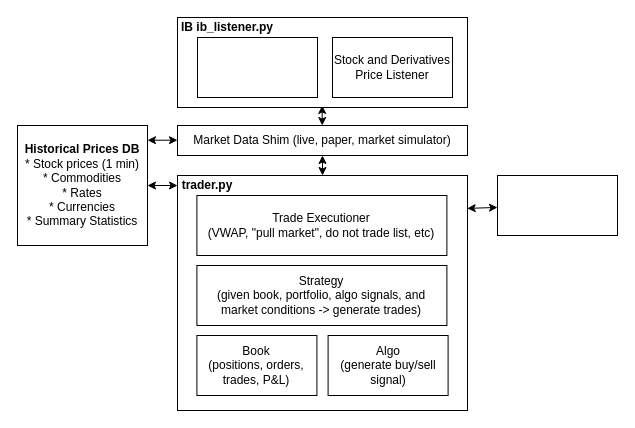
The diagram is 635 pixels wide and 428 high, and some of its shapes have lost their labels. Each missing label, with the centre of its shape:
Market Scanner: point (257, 67)
Portfolio * Wealth, age, risk profile, optimization strategy etc.: point (557, 205)
